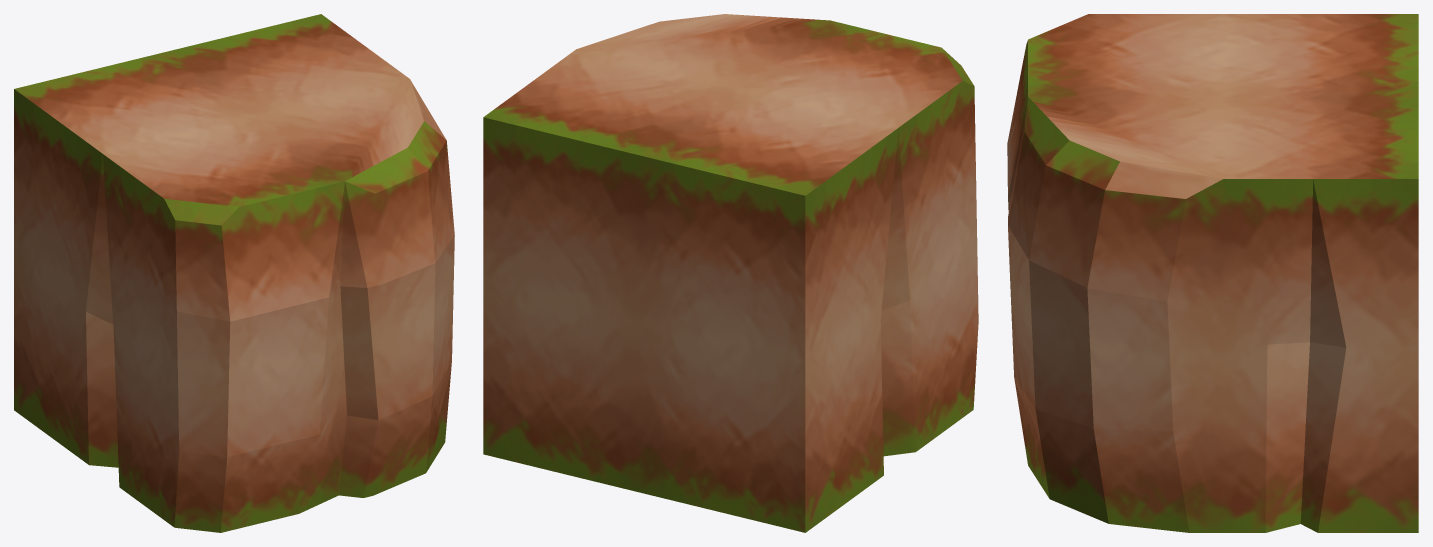
The model's file is CliffFaceTile04_Corner_1x1x4.fbx.
3 renders of one model, left to right at view 1: azimuth 30°, elevation 25°; view 2: azimuth 150°, elevation 25°; view 3: azimuth 270°, elevation 25°, orthographic. The views are drawn at different scales.
Parts seen in each view (by area): view 1: Cube; view 2: Cube; view 3: Cube.
Boxes of the visible parts, x1=… form: Cube: x1=14, y1=14, x2=454, y2=532; Cube: x1=483, y1=14, x2=978, y2=532; Cube: x1=1007, y1=14, x2=1418, y2=532.
Size of the model in its own units: 2 by 2.11 by 2.
